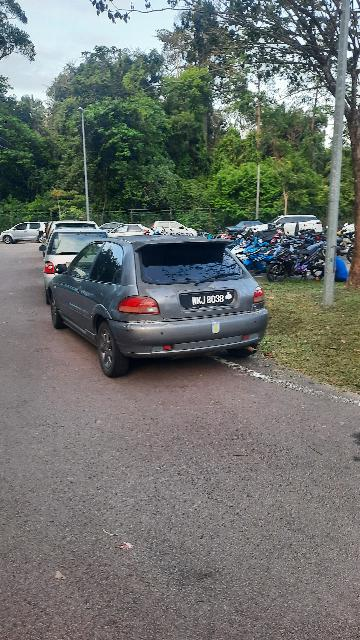License_Plate: (180, 290, 242, 310)
car: (41, 235, 290, 377)
